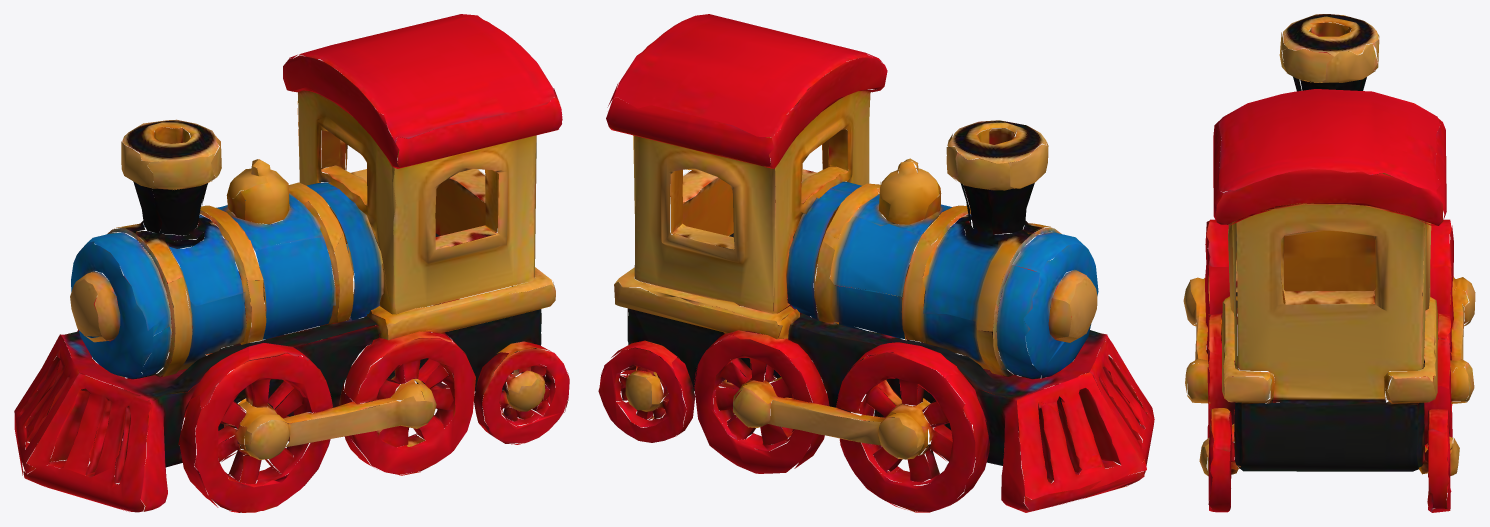
The model's file is train.glb.
The picture shows the model from 3 angles, left to right: view 1: azimuth 30°, elevation 25°; view 2: azimuth 150°, elevation 25°; view 3: azimuth 270°, elevation 25°; orthographic projection.
Visible parts, largest first — view 1: textured_mesh.obj; view 2: textured_mesh.obj; view 3: textured_mesh.obj.
Boxes of the visible parts, bbox=[...] form: textured_mesh.obj: bbox=[14, 14, 569, 512]; textured_mesh.obj: bbox=[598, 14, 1154, 512]; textured_mesh.obj: bbox=[1183, 14, 1475, 512].
Bounding box in the file's own units: 1.4 × 1 × 0.7282.
1 material, 1 textured.
